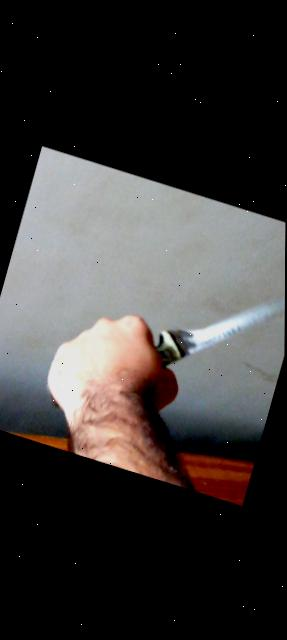long knife: (132, 251, 286, 406)
